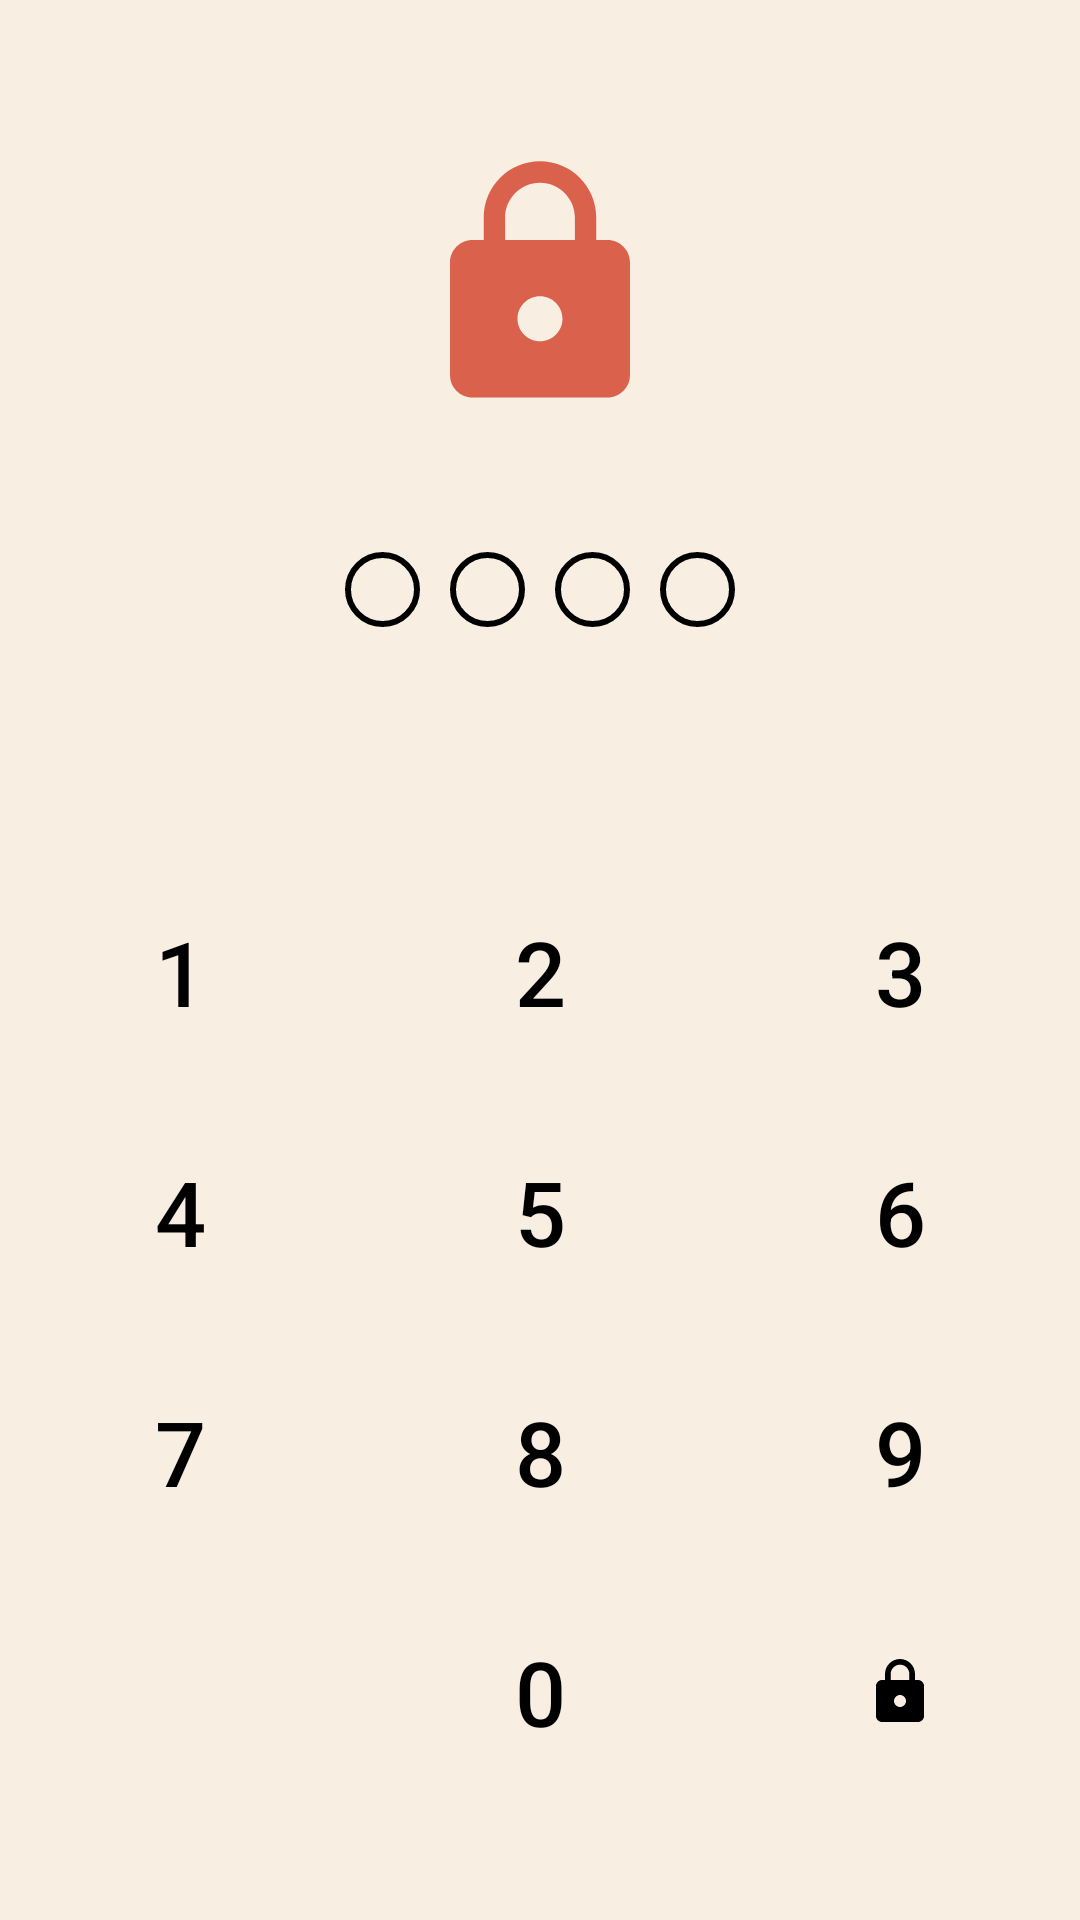

Screen size 1080 x 1920. Icon name, then its center in pixels as (x=x, y=y):
Icon lock: (x=900, y=1690)
lock: (x=540, y=279)
pin dot not: (x=382, y=589), (x=487, y=589), (x=592, y=589), (x=697, y=589)
